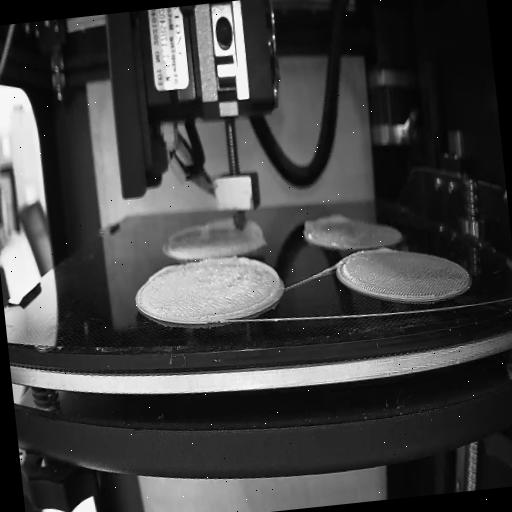over_extrusion: (228, 250, 284, 313), (302, 212, 349, 232), (146, 259, 184, 283), (244, 216, 266, 242), (199, 216, 233, 230), (377, 244, 397, 254)
